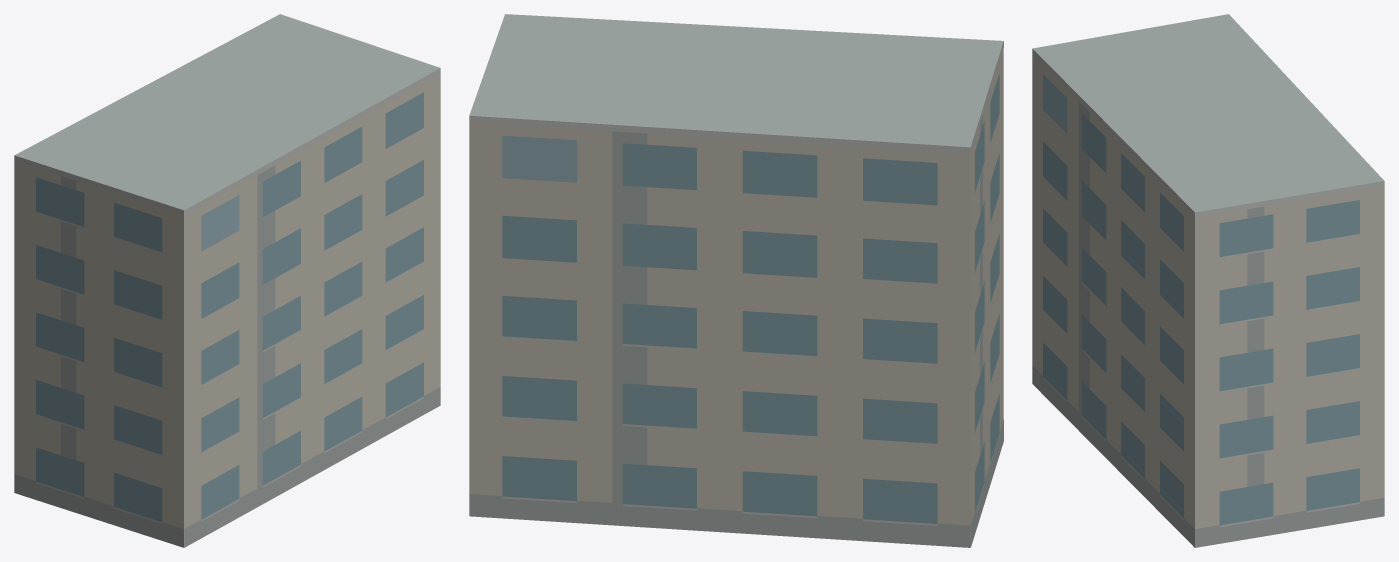
The model's file is survey-upis-32866162.glb.
3 views of the same model, side by side, from view 1: azimuth 30°, elevation 25°; view 2: azimuth 150°, elevation 25°; view 3: azimuth 270°, elevation 25° (orthographic). The views are drawn at different scales.
Visible parts, largest first — view 1: survey-upis-32866162.tmp; view 2: survey-upis-32866162.tmp; view 3: survey-upis-32866162.tmp.
Boxes of the visible parts, box(x1,y1,x2,y2) form: survey-upis-32866162.tmp: box(14, 14, 440, 547); survey-upis-32866162.tmp: box(469, 14, 1003, 547); survey-upis-32866162.tmp: box(1032, 14, 1384, 547).
Size of the model in its own units: 18.99 by 14.95 by 14.24.
